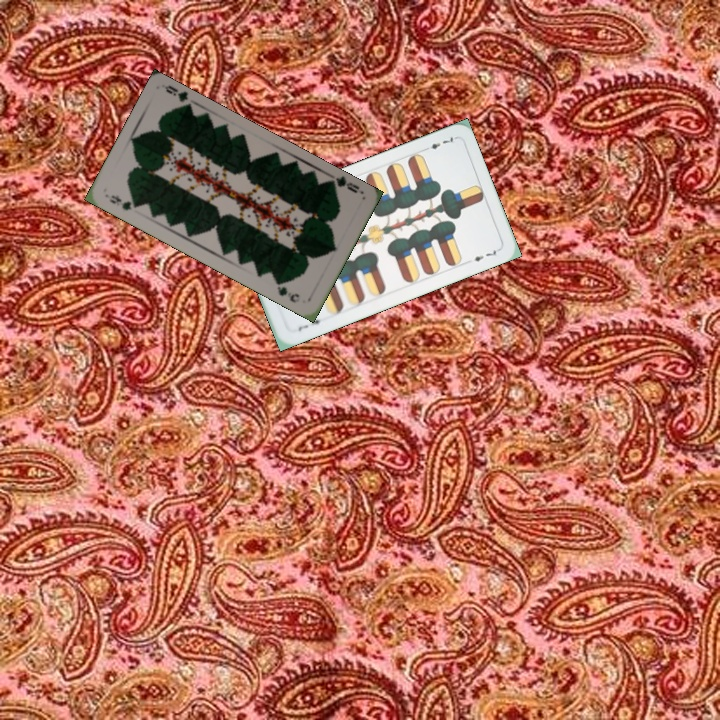E7: (419, 133, 458, 154), (294, 315, 327, 334)
G9: (325, 173, 362, 196), (104, 191, 142, 213)
